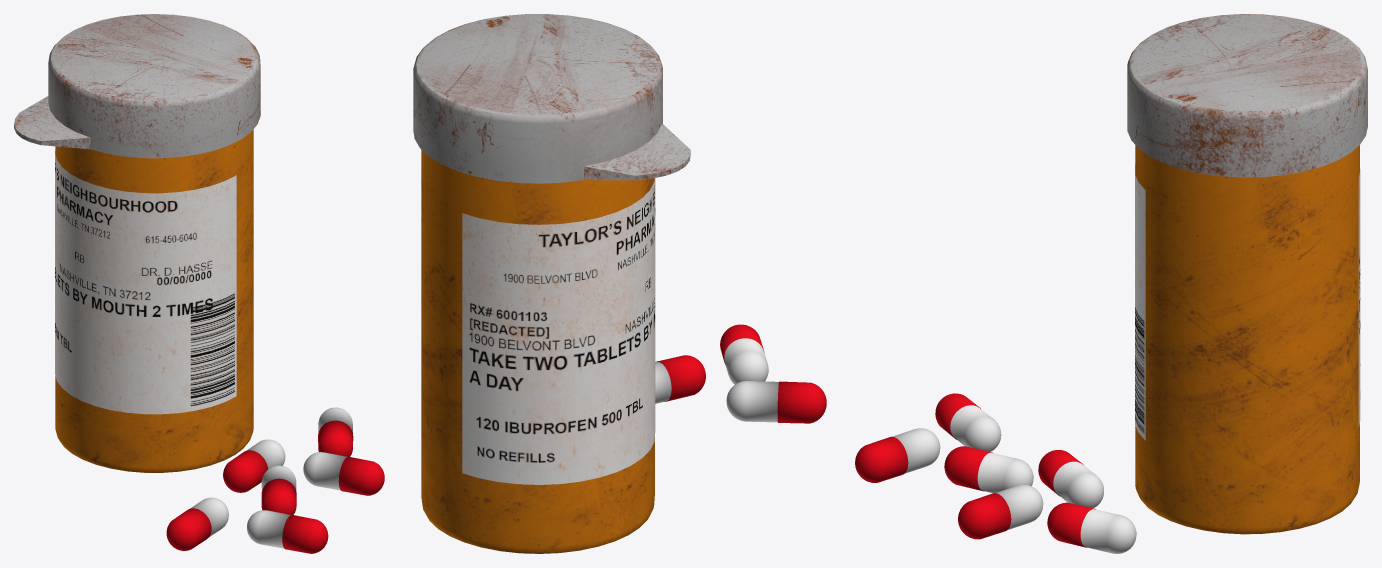
File: pillbottle.fbx
The picture shows the model from 3 angles, left to right: view 1: azimuth 30°, elevation 25°; view 2: azimuth 150°, elevation 25°; view 3: azimuth 270°, elevation 25°; orthographic projection. The views are drawn at different scales.
Visible parts, largest first — view 1: label, cap, bottle, Sphere.031, Sphere.034, Sphere.033, Sphere.030, Sphere.032, Sphere.029; view 2: label, cap, bottle, Sphere.033, Sphere.034, Sphere.032; view 3: bottle, cap, label, Sphere.029, Sphere.031, Sphere.034, Sphere.032, Sphere.033, Sphere.030.
Boxes of the visible parts, x1,y1,x2,y2 form: label: (55,151,236,414); cap: (14,14,260,158); bottle: (55,129,253,472); Sphere.031: (303,452,384,495); Sphere.034: (247,510,328,553); Sphere.033: (166,497,228,550); Sphere.030: (223,439,285,492); Sphere.032: (261,465,296,514); Sphere.029: (318,407,353,456); label: (462,178,655,484); cap: (413,14,690,183); bottle: (421,150,654,553); Sphere.033: (726,381,826,423); Sphere.034: (720,324,768,384); Sphere.032: (655,355,705,403); bottle: (1135,145,1359,534); cap: (1127,14,1367,177); label: (1135,165,1360,440); Sphere.029: (1047,502,1136,553); Sphere.031: (958,484,1043,539); Sphere.034: (855,428,940,482); Sphere.032: (944,446,1033,493); Sphere.033: (935,393,1001,451); Sphere.030: (1038,450,1103,508).
Bounding box in the file's own units: 117 × 157 × 171.
5 materials, 3 textured.
